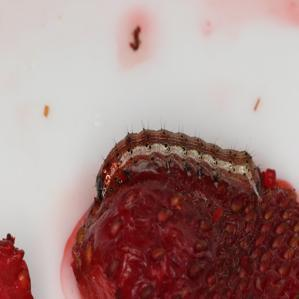Cotton bollworm: (84, 99, 270, 211)
